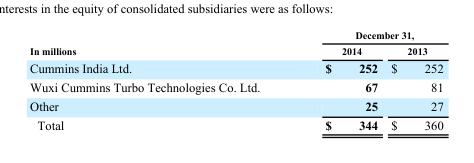table: (29, 28, 442, 132)
table column: (29, 28, 291, 132), (291, 28, 383, 132), (383, 28, 442, 132)
table column header: (29, 28, 442, 58)
table row: (29, 58, 442, 77), (29, 77, 442, 96), (29, 96, 442, 115), (29, 115, 442, 132), (29, 42, 442, 58), (29, 28, 442, 42)
table spanning cell: (29, 28, 291, 58), (291, 28, 442, 42)
